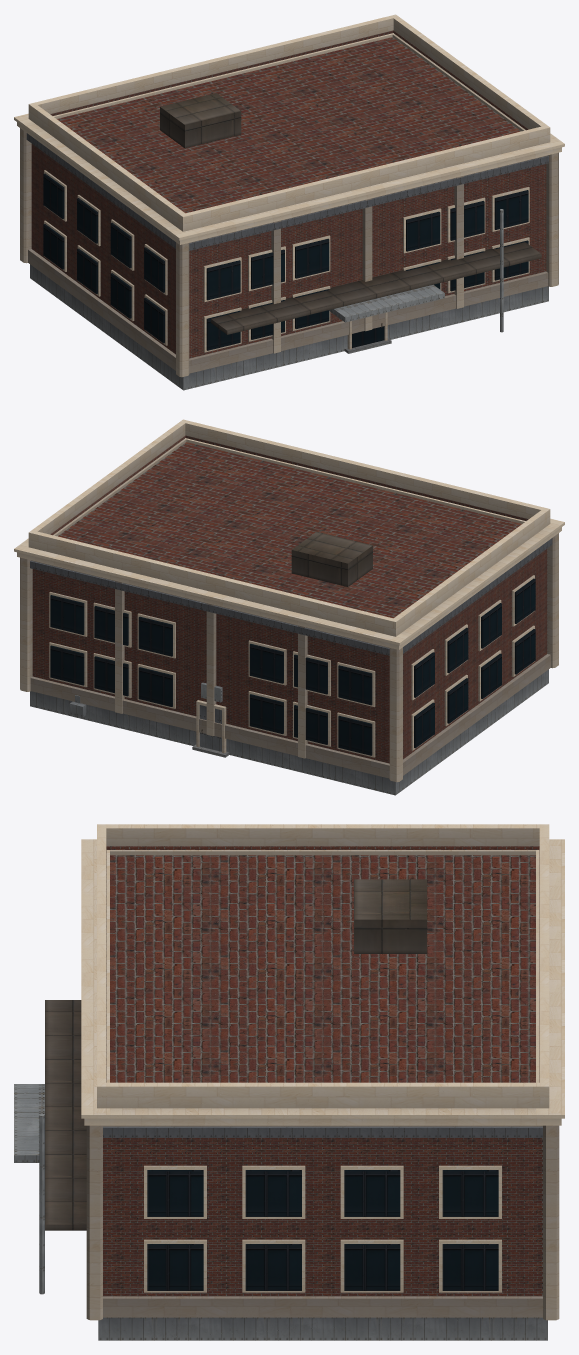
File: eighth-precinct-substation_lod0.gltf
3 renders of one model, top to bottom at view 1: azimuth 30°, elevation 25°; view 2: azimuth 150°, elevation 25°; view 3: azimuth 270°, elevation 25°, orthographic. The views are drawn at different scales.
Parts seen in each view (by area): view 1: eighth-precinct-substation_upper, eighth-precinct-substation__v4_stone_detail, eighth-precinct-substation_fen_07-glass-curtain-blue_1_t, eighth-precinct-substation__v4_metal_detail, eighth-precinct-substation_base, eighth-precinct-substation_fen_04-limestone_0, eighth-precinct-substation__cornice, eighth-precinct-substation__canopy, eighth-precinct-substation__parapet_back, eighth-precinct-substation__flag_pole; view 2: eighth-precinct-substation_upper, eighth-precinct-substation__v4_stone_detail, eighth-precinct-substation_fen_07-glass-curtain-blue_1_t, eighth-precinct-substation_base, eighth-precinct-substation_fen_04-limestone_0, eighth-precinct-substation__cornice, eighth-precinct-substation__v4_metal_detail, eighth-precinct-substation__parapet_front, eighth-precinct-substation_fen_14-steel-panel_4; view 3: eighth-precinct-substation_upper, eighth-precinct-substation__v4_stone_detail, eighth-precinct-substation_fen_07-glass-curtain-blue_1_t, eighth-precinct-substation__v4_metal_detail, eighth-precinct-substation_base, eighth-precinct-substation_fen_04-limestone_0, eighth-precinct-substation__cornice, eighth-precinct-substation__canopy, eighth-precinct-substation__parapet_left, eighth-precinct-substation__flag_pole.
Part boxes in pixels (bbox=[...]): eighth-precinct-substation_upper: bbox=[31, 37, 546, 358]; eighth-precinct-substation__v4_stone_detail: bbox=[14, 14, 564, 377]; eighth-precinct-substation_fen_07-glass-curtain-blue_1_t: bbox=[43, 173, 528, 350]; eighth-precinct-substation__v4_metal_detail: bbox=[160, 93, 541, 334]; eighth-precinct-substation_base: bbox=[30, 264, 548, 390]; eighth-precinct-substation_fen_04-limestone_0: bbox=[44, 170, 529, 352]; eighth-precinct-substation__cornice: bbox=[26, 133, 548, 250]; eighth-precinct-substation__canopy: bbox=[329, 284, 444, 322]; eighth-precinct-substation__parapet_back: bbox=[50, 30, 393, 115]; eighth-precinct-substation__flag_pole: bbox=[500, 209, 503, 332]; eighth-precinct-substation_upper: bbox=[32, 442, 547, 763]; eighth-precinct-substation__v4_stone_detail: bbox=[14, 419, 564, 782]; eighth-precinct-substation_fen_07-glass-curtain-blue_1_t: bbox=[50, 578, 535, 755]; eighth-precinct-substation_base: bbox=[30, 669, 548, 795]; eighth-precinct-substation_fen_04-limestone_0: bbox=[49, 575, 534, 757]; eighth-precinct-substation__cornice: bbox=[30, 538, 552, 655]; eighth-precinct-substation__v4_metal_detail: bbox=[291, 531, 372, 586]; eighth-precinct-substation__parapet_front: bbox=[185, 435, 528, 520]; eighth-precinct-substation_fen_14-steel-panel_4: bbox=[69, 682, 222, 751]; eighth-precinct-substation_upper: bbox=[103, 855, 542, 1296]; eighth-precinct-substation__v4_stone_detail: bbox=[81, 824, 564, 1320]; eighth-precinct-substation_fen_07-glass-curtain-blue_1_t: bbox=[147, 1170, 498, 1290]; eighth-precinct-substation__v4_metal_detail: bbox=[45, 879, 426, 1230]; eighth-precinct-substation_base: bbox=[98, 1317, 547, 1340]; eighth-precinct-substation_fen_04-limestone_0: bbox=[144, 1165, 501, 1292]; eighth-precinct-substation__cornice: bbox=[103, 1126, 542, 1137]; eighth-precinct-substation__canopy: bbox=[14, 1084, 44, 1162]; eighth-precinct-substation__parapet_left: bbox=[106, 846, 539, 849]; eighth-precinct-substation__flag_pole: bbox=[39, 1114, 44, 1294].
Bounding box in the file's own units: 23.22 × 10.35 × 19.61.
